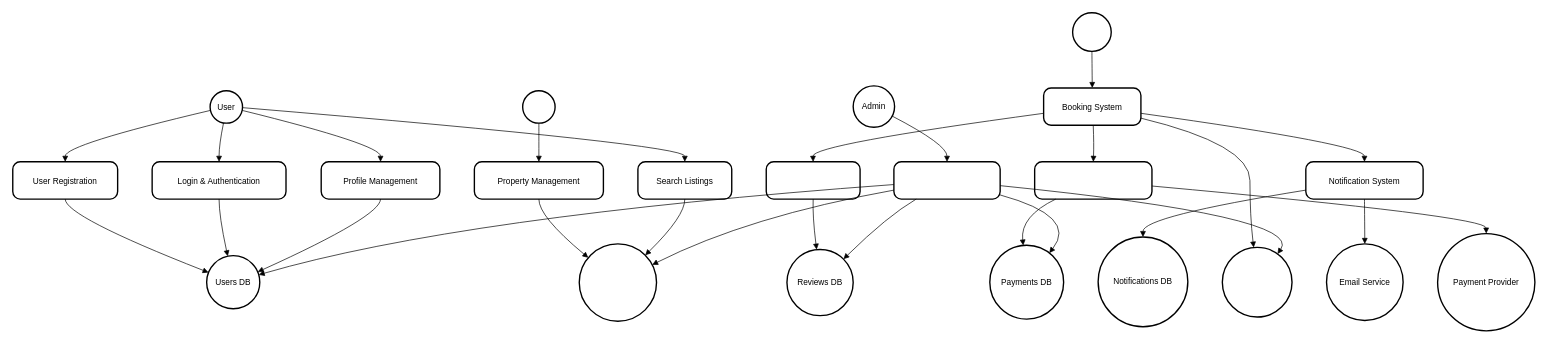
This 1547x343 diagram has some shape labels left out. The shapes that lost their labels are listed below. From the top down, each one's centre as x and y in pixels, then its label:
At point (1092, 32): "Guest".
At point (538, 107): "Host".
At point (812, 180): "Review System".
At point (946, 180): "Admin Dashboard".
At point (1093, 180): "Payment Processing".
At point (617, 282): "Properties DB".
At point (1256, 281): "Bookings DB".
